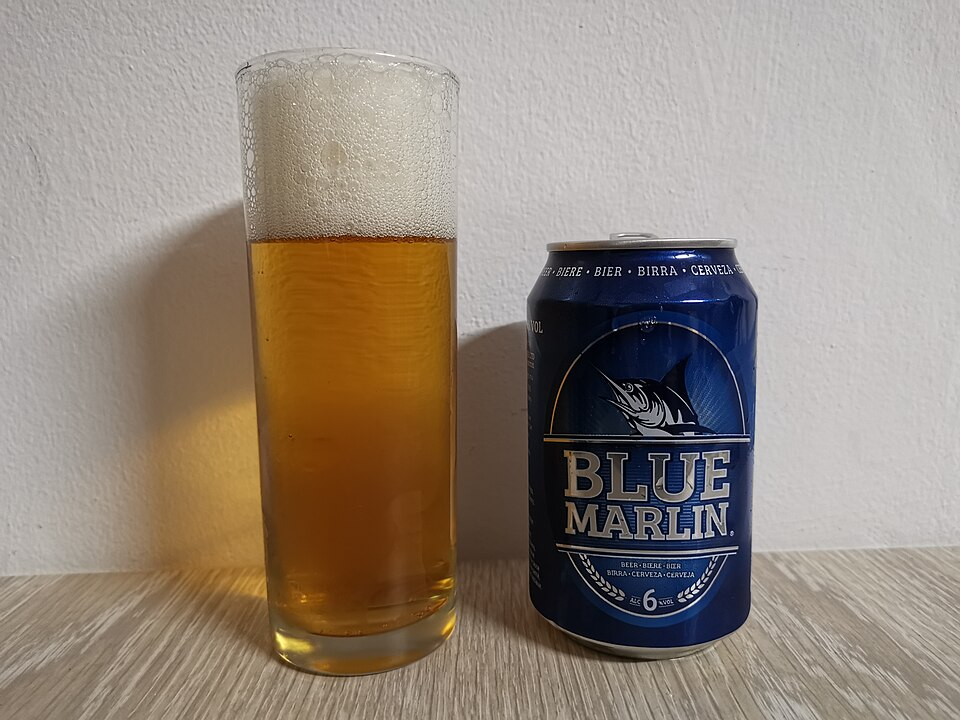beer-can: (521, 230, 764, 671)
